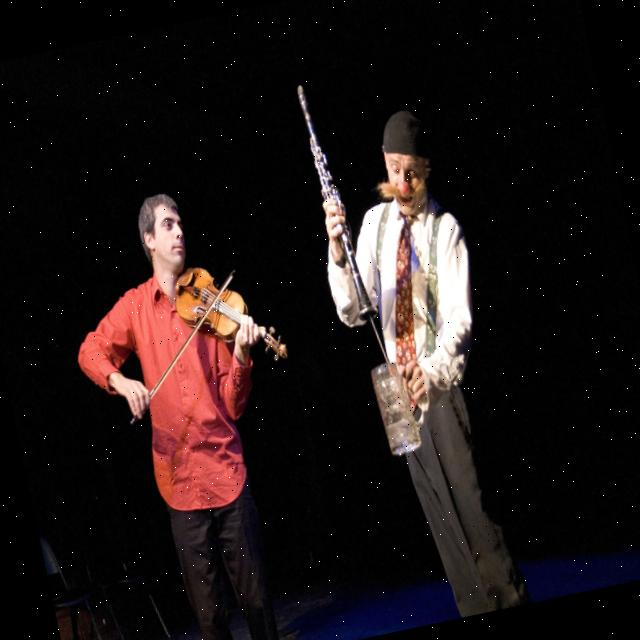clarinet: (293, 78, 385, 329)
violin: (167, 248, 296, 383)
